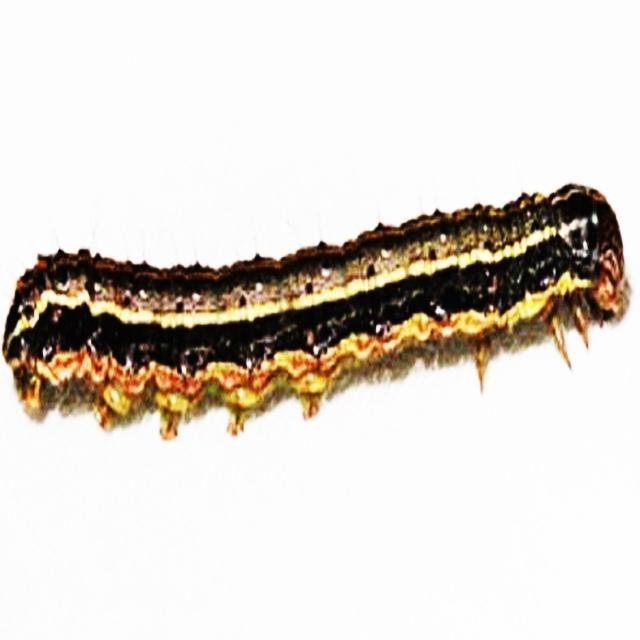gusano_cogollero: (3, 185, 640, 438)
